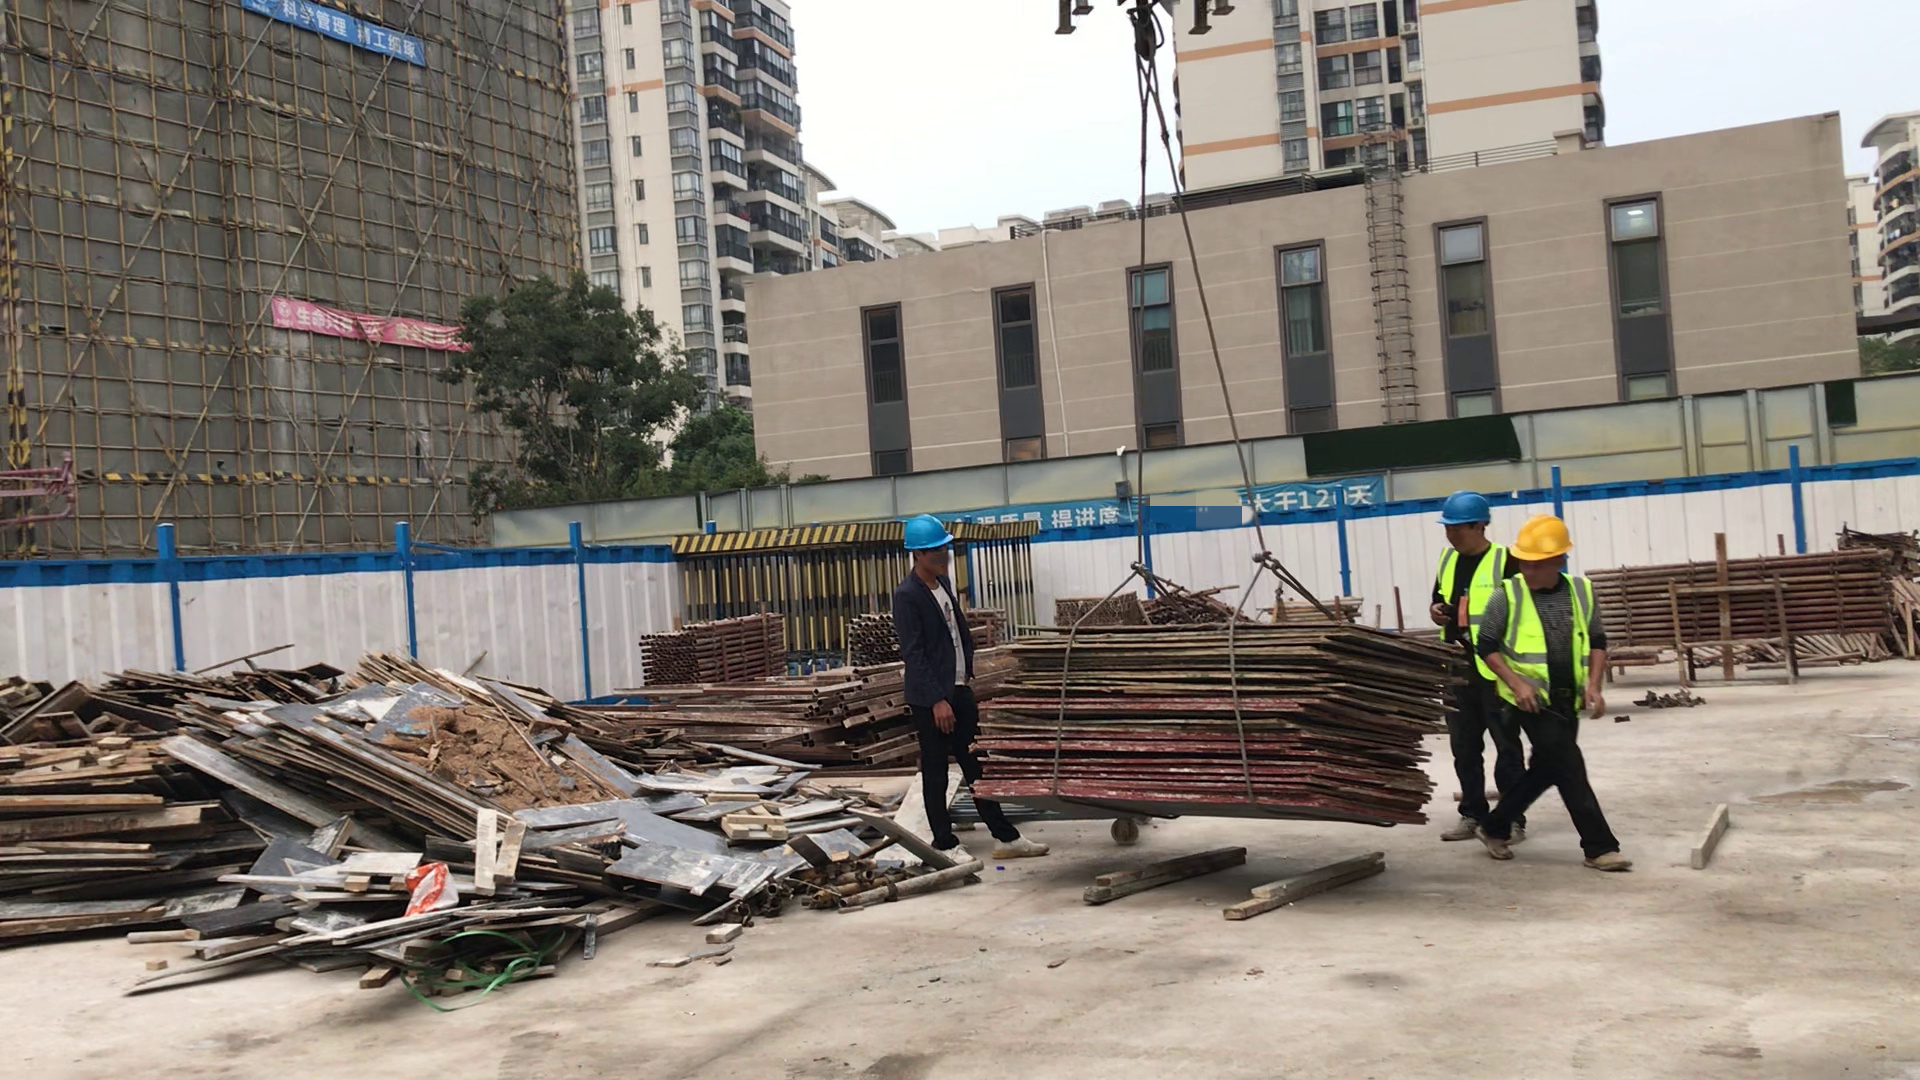board: (976, 616, 1480, 849)
helmet: (1510, 514, 1576, 559), (895, 516, 953, 550), (1436, 492, 1490, 525)
hook: (1058, 3, 1224, 58)
person: (873, 516, 1047, 860), (1481, 517, 1632, 883), (1423, 494, 1521, 854)
scaffold: (1603, 553, 1888, 642), (640, 613, 785, 685), (1061, 592, 1146, 624), (847, 618, 898, 660)
slogan: (965, 473, 1383, 532), (266, 293, 472, 354), (243, 1, 425, 61)
vest: (1497, 575, 1594, 716), (1440, 545, 1501, 642)
